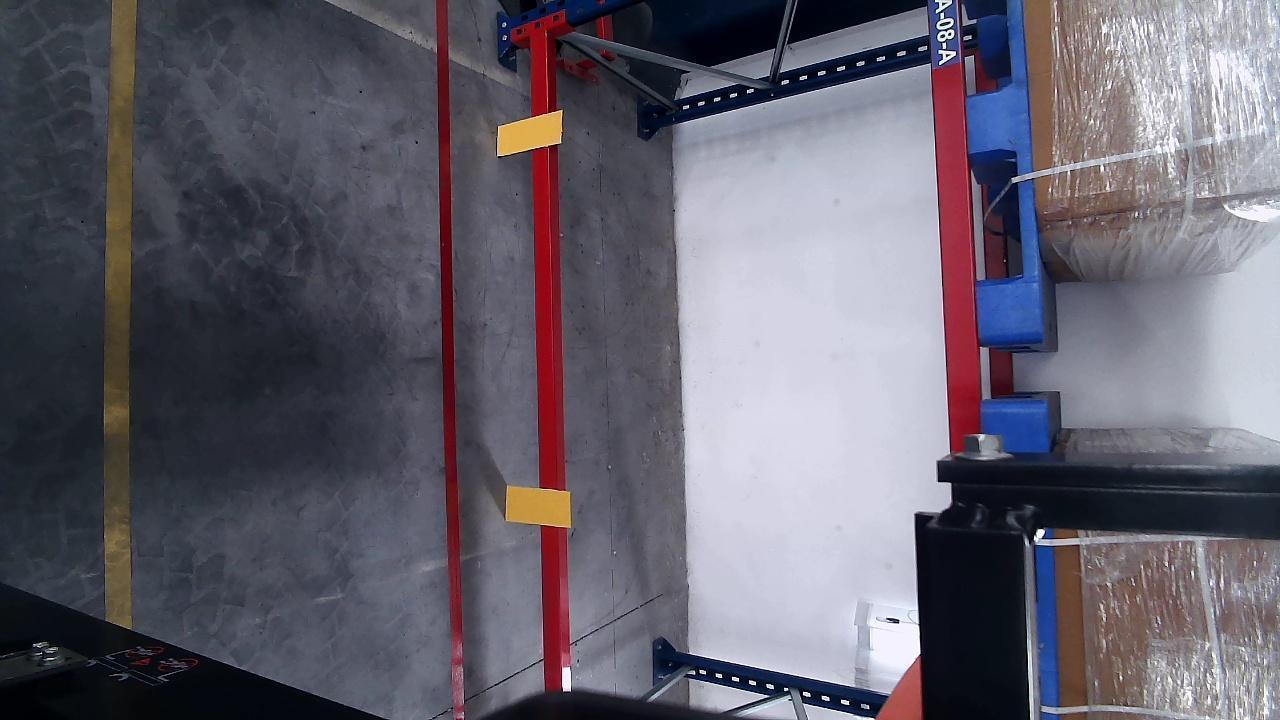red_line: (431, 1, 472, 717)
yellow_line: (104, 2, 137, 632)
